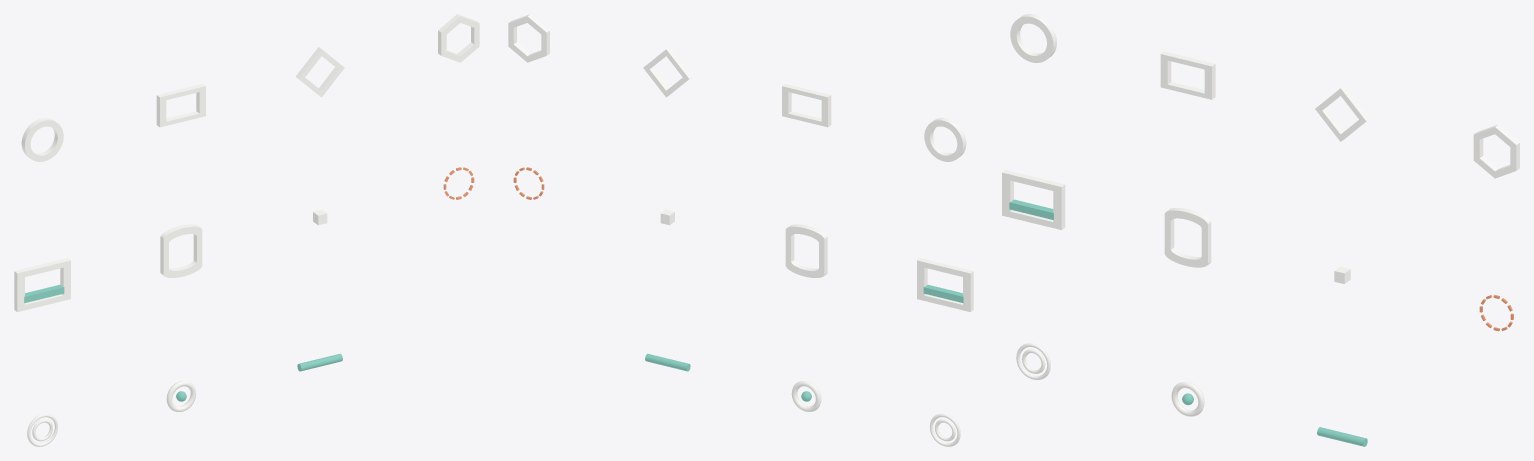
File: halt-node-kit.glb
The picture shows the model from 3 angles, left to right: view 1: azimuth 30°, elevation 25°; view 2: azimuth 150°, elevation 25°; view 3: azimuth 330°, elevation 25°; orthographic projection. The views are drawn at different scales.
Visible parts, largest first — view 1: CriticalServiceNode, DatabaseNode, DeviceNode, ApplicationNode, UserNode, TokenNode, ApprovalMarker, BlockedPathMarker; view 2: CriticalServiceNode, DatabaseNode, DeviceNode, ApplicationNode, UserNode, TokenNode, ApprovalMarker, BlockedPathMarker; view 3: CriticalServiceNode, DatabaseNode, DeviceNode, ApplicationNode, UserNode, TokenNode, BlockedPathMarker, ApprovalMarker.
Boxes of the visible parts, left/top/right/bottom form: CriticalServiceNode: left=14, top=258, right=70, bottom=311; DatabaseNode: left=160, top=224, right=202, bottom=277; DeviceNode: left=156, top=84, right=205, bottom=127; ApplicationNode: left=438, top=14, right=479, bottom=62; UserNode: left=21, top=118, right=63, bottom=161; TokenNode: left=295, top=47, right=344, bottom=97; ApprovalMarker: left=27, top=413, right=58, bottom=446; BlockedPathMarker: left=166, top=381, right=196, bottom=411; CriticalServiceNode: left=917, top=258, right=973, bottom=311; DatabaseNode: left=785, top=224, right=827, bottom=277; DeviceNode: left=782, top=84, right=831, bottom=127; ApplicationNode: left=508, top=14, right=549, bottom=62; UserNode: left=924, top=118, right=966, bottom=161; TokenNode: left=643, top=47, right=692, bottom=97; ApprovalMarker: left=929, top=413, right=960, bottom=446; BlockedPathMarker: left=791, top=381, right=821, bottom=411; CriticalServiceNode: left=1002, top=170, right=1065, bottom=229; DatabaseNode: left=1164, top=208, right=1211, bottom=267; DeviceNode: left=1160, top=51, right=1215, bottom=99; ApplicationNode: left=1473, top=124, right=1519, bottom=178; UserNode: left=1010, top=14, right=1056, bottom=62; TokenNode: left=1315, top=86, right=1369, bottom=141; BlockedPathMarker: left=1171, top=382, right=1204, bottom=416; ApprovalMarker: left=1016, top=343, right=1050, bottom=379.
Size of the model in its own units: 10 by 6.84 by 0.2.
